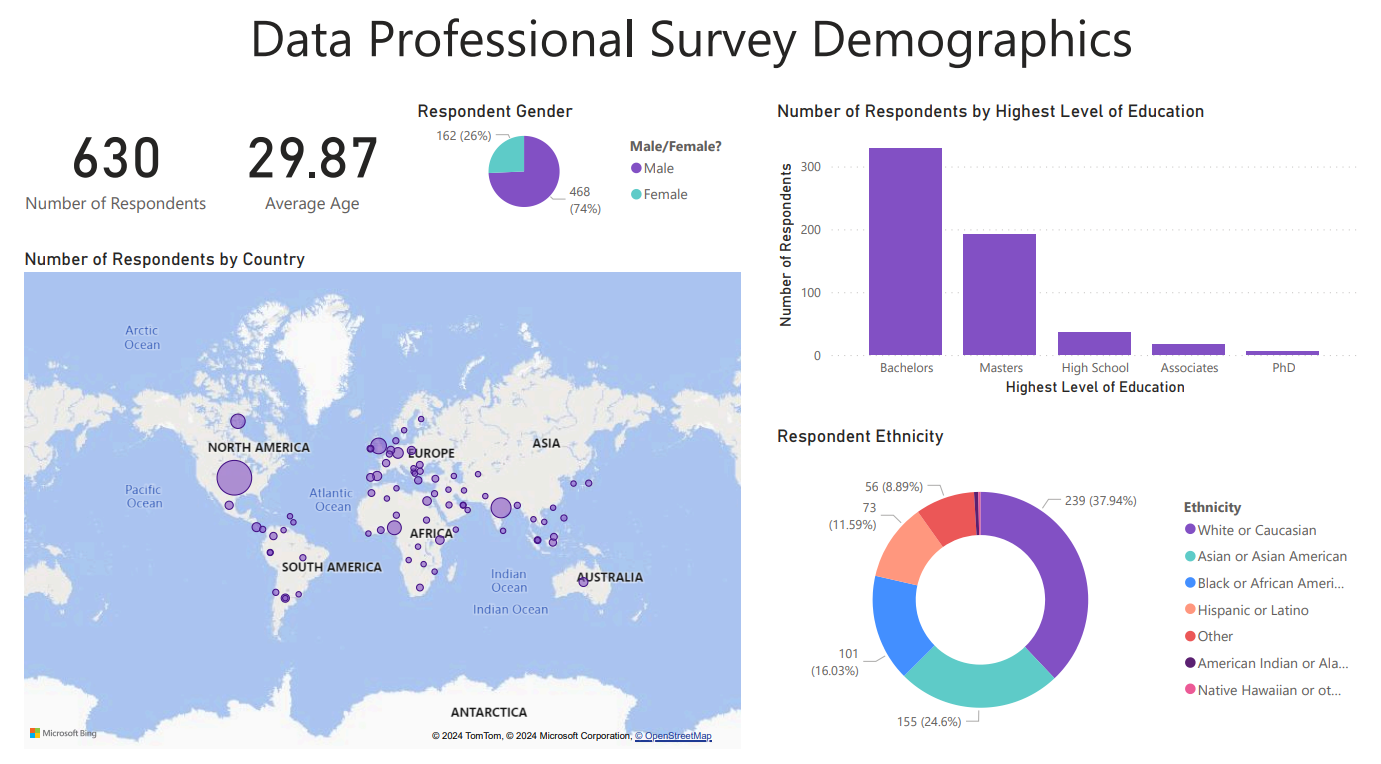

What the dashboard file says about the page in this screenshot:
{"tool":"powerbi","page":{"name":"Demographics","canvas":[1280,720],"ordinal":1},"visuals":[{"type":"pieChart","title":"Respondent Gender","fields":{"Category":["Data Professional Survey.Q9 - Male/Female?"],"Y":["CountNonNull(Data Professional Survey.Q9 - Male/Female?)"]},"box":[373.8,98.8,317.5,116.2],"z":0},{"type":"textbox","box":[0,0,1280,77.1],"z":1000},{"type":"card","fields":{"Values":["CountNonNull(Data Professional Survey.Average Salary)"]},"box":[0,98.8,183.8,116.2],"z":2000},{"type":"card","fields":{"Values":["Avg(Data Professional Survey.Q10 - Current Age)"]},"box":[200,98.8,157.5,116.2],"z":3000},{"type":"map","title":"Number of Respondents by Country","fields":{"Category":["Data Professional Survey.Country"],"Size":["CountNonNull(Data Professional Survey.Country)"]},"box":[0,238.8,691.2,481.2],"z":4000},{"type":"columnChart","fields":{"Category":["Data Professional Survey.Q12 - Highest Level of Education"],"Y":["CountNonNull(Data Professional Survey.Q12 - Highest Level of Education)"]},"box":[716.2,98.8,563.8,286.2],"z":5000},{"type":"donutChart","title":"Respondent Ethnicity","fields":{"Category":["Data Professional Survey.Q13 - Ethnicity.1"],"Y":["CountNonNull(Data Professional Survey.Q13 - Ethnicity.1)"]},"box":[716.2,407.5,563.8,312.5],"z":7000}]}

Visuals, with their boxes in screenshot pixels (x1, y1, x2, y2), scaled from the page's 1280x720 canvas onto the 1381x764 screenshot:
"Respondent Gender" pieChart: x1=403, y1=105, x2=746, y2=228
textbox: x1=0, y1=0, x2=1380, y2=82
card - CountNonNull(Data Professional Survey.Average Salary): x1=0, y1=105, x2=198, y2=228
card - Avg(Data Professional Survey.Q10 - Current Age): x1=216, y1=105, x2=386, y2=228
"Number of Respondents by Country" map: x1=0, y1=253, x2=746, y2=763
columnChart - Data Professional Survey.Q12 - Highest Level of Education x CountNonNull(Data Professional Survey.Q12 - Highest Level of Education): x1=773, y1=105, x2=1380, y2=409
"Respondent Ethnicity" donutChart: x1=773, y1=432, x2=1380, y2=763
